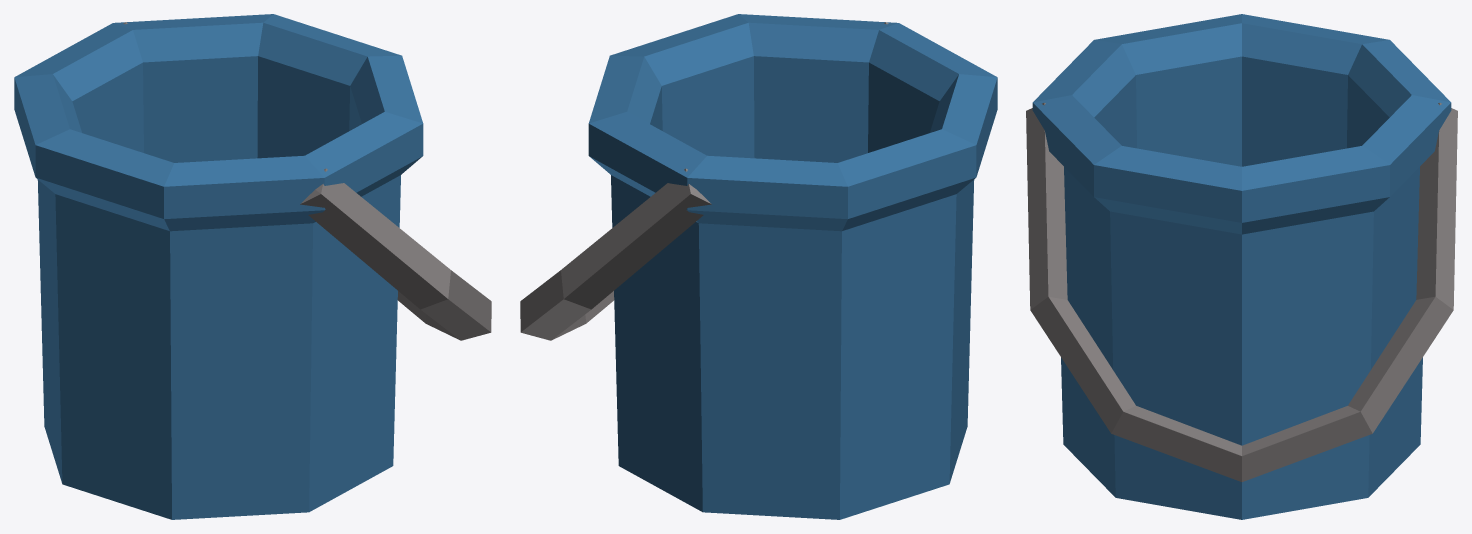
File: sand-bucket.glb
3 views of the same model, side by side, from view 1: azimuth 30°, elevation 25°; view 2: azimuth 150°, elevation 25°; view 3: azimuth 270°, elevation 25° (orthographic).
Visible parts, largest first — view 1: sand-bucket; view 2: sand-bucket; view 3: sand-bucket.
Boxes of the visible parts, box(x1,y1,x2,y2) form: sand-bucket: box(14, 14, 491, 519); sand-bucket: box(520, 14, 997, 519); sand-bucket: box(1026, 14, 1457, 519).
Size of the model in its own units: 0.2897 by 0.2325 by 0.2604.
Materials: 1 (1 with a texture image).
